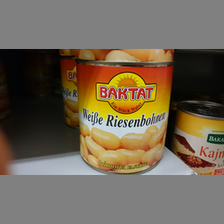beans: (75, 59, 174, 173)
